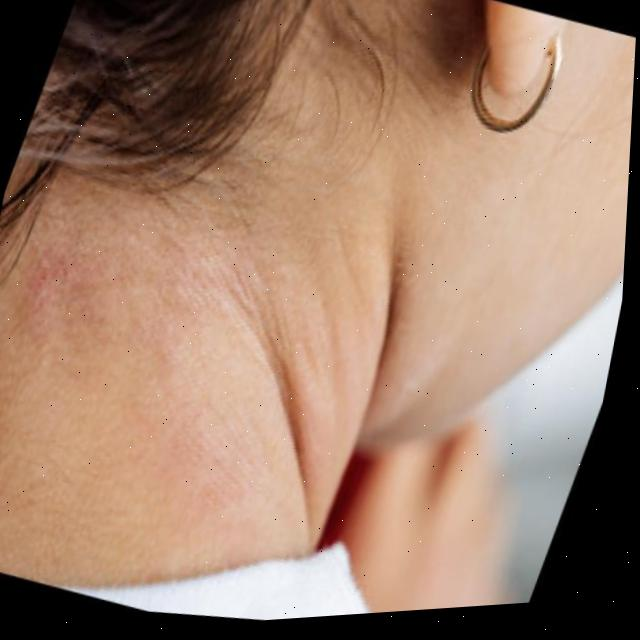Eczema: (10, 188, 143, 363)
